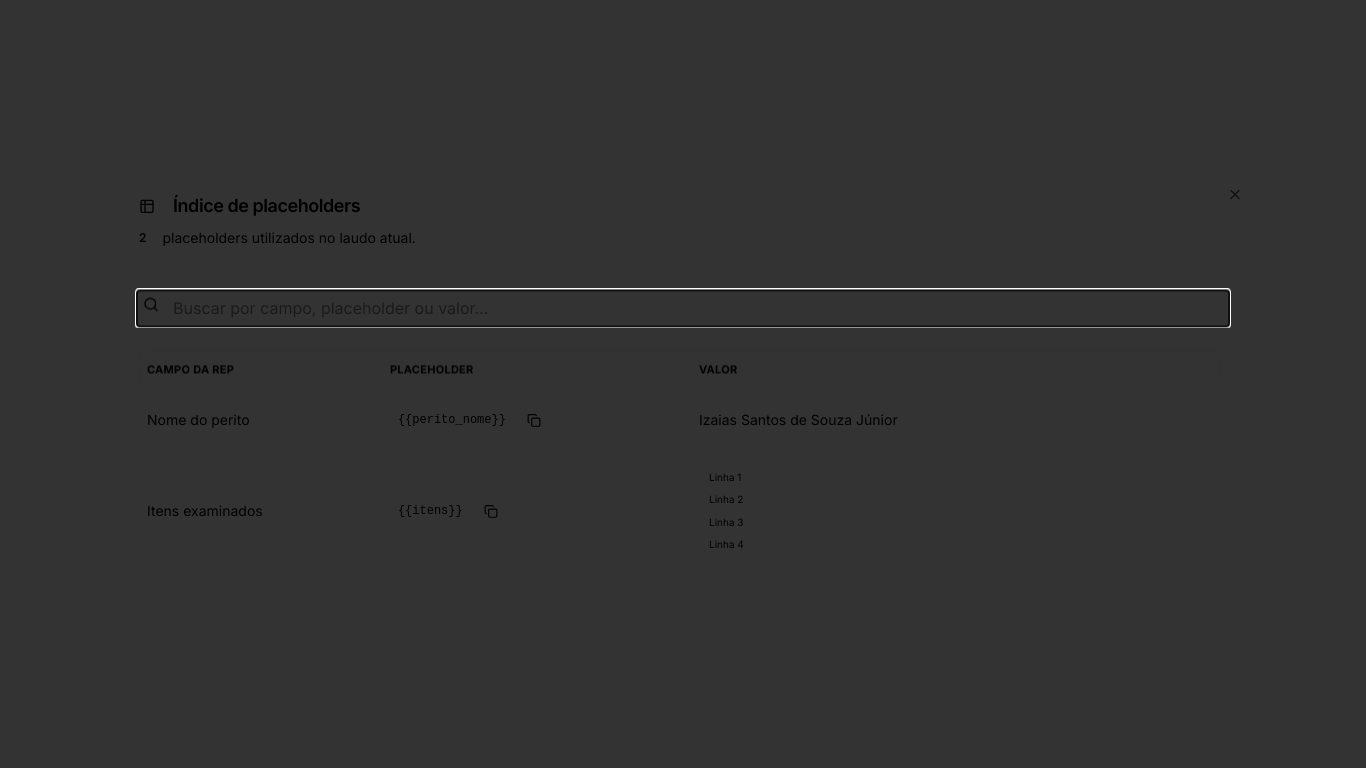
IndicePlaceholdersDialog › mostra o estado vazio quando a busca não encontra nenhum placeholder
Type "sem resultado" into the field with placeholder "Buscar por campo, placeholder ou valor..." at (683, 308), box top-left (137, 290), bottom-right (1229, 326)
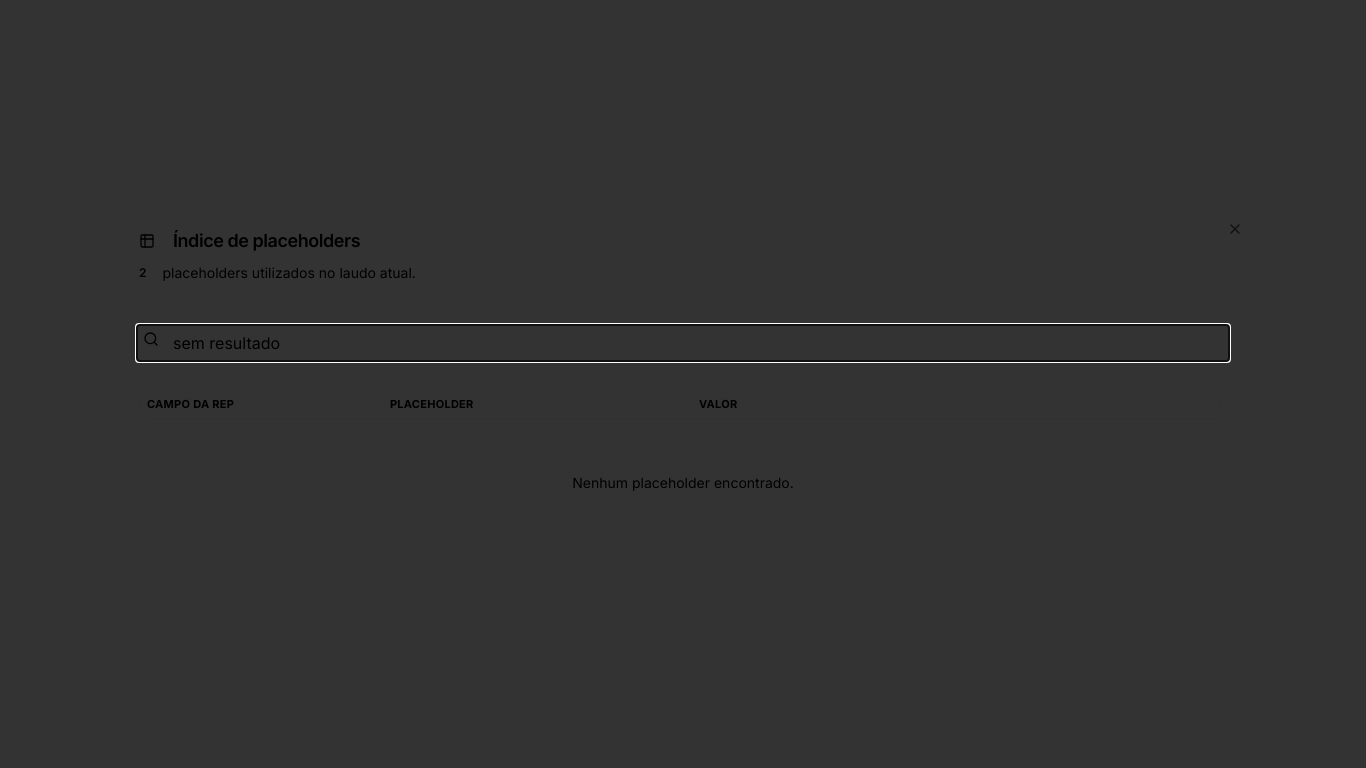
Now the text "Nenhum placeholder encontrado." is shown, box top-left (131, 427), bottom-right (1235, 539)
